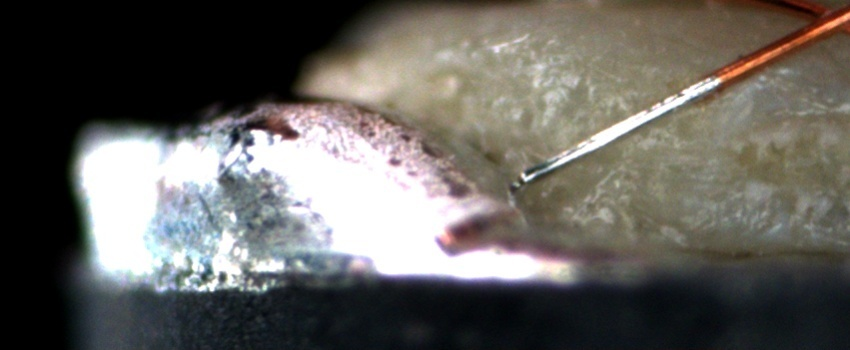CL: (781, 0, 848, 45)
TS: (510, 77, 719, 187)
